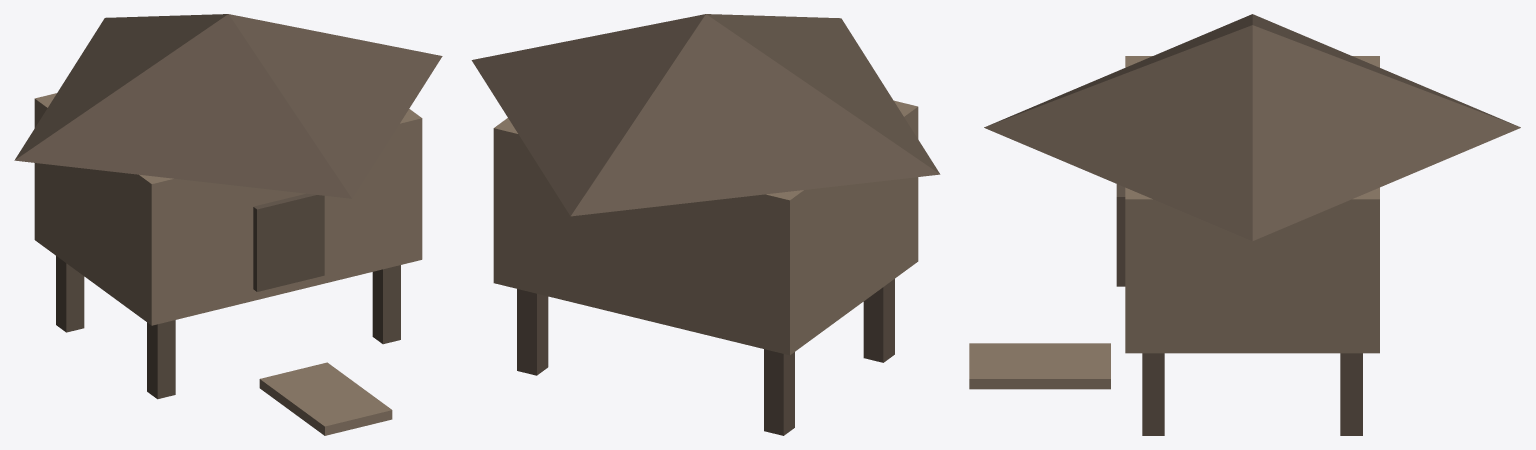
The model's file is hs_coop.glb.
3 views of the same model, side by side, from view 1: azimuth 30°, elevation 25°; view 2: azimuth 150°, elevation 25°; view 3: azimuth 270°, elevation 25° (orthographic). The views are drawn at different scales.
Visible parts, largest first — view 1: hs_coop; view 2: hs_coop; view 3: hs_coop.
Boxes of the visible parts, box(x1,y1,x2,y2) form: hs_coop: box(14, 14, 442, 435); hs_coop: box(471, 14, 940, 435); hs_coop: box(969, 14, 1520, 435).
Bounding box in the file's own units: 1.9 × 1.35 × 1.95.
